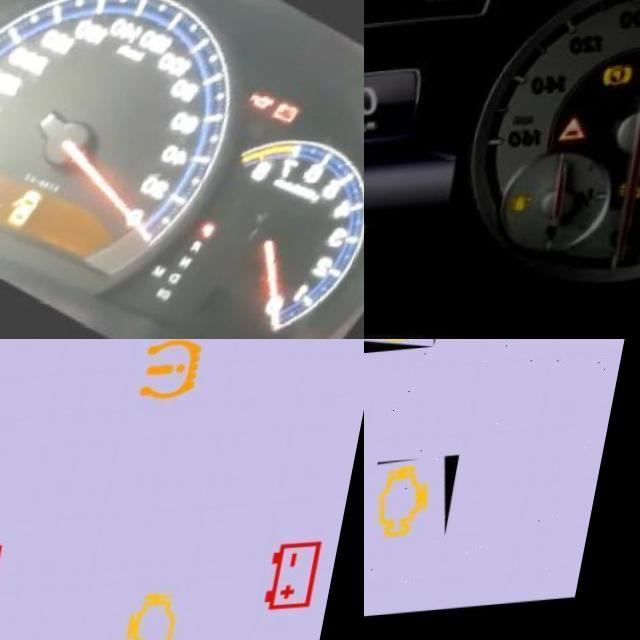Low fuel level: (516, 193, 536, 216)
